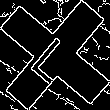L_NE: (27, 26, 83, 84)
